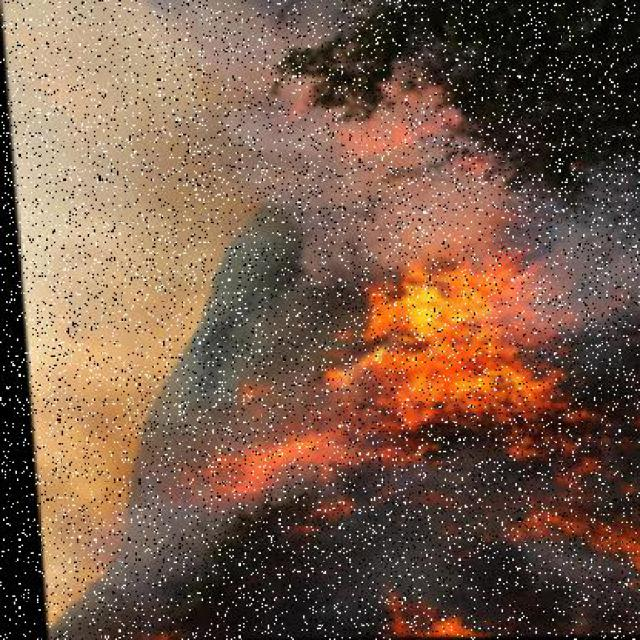fire: (348, 277, 572, 485)
